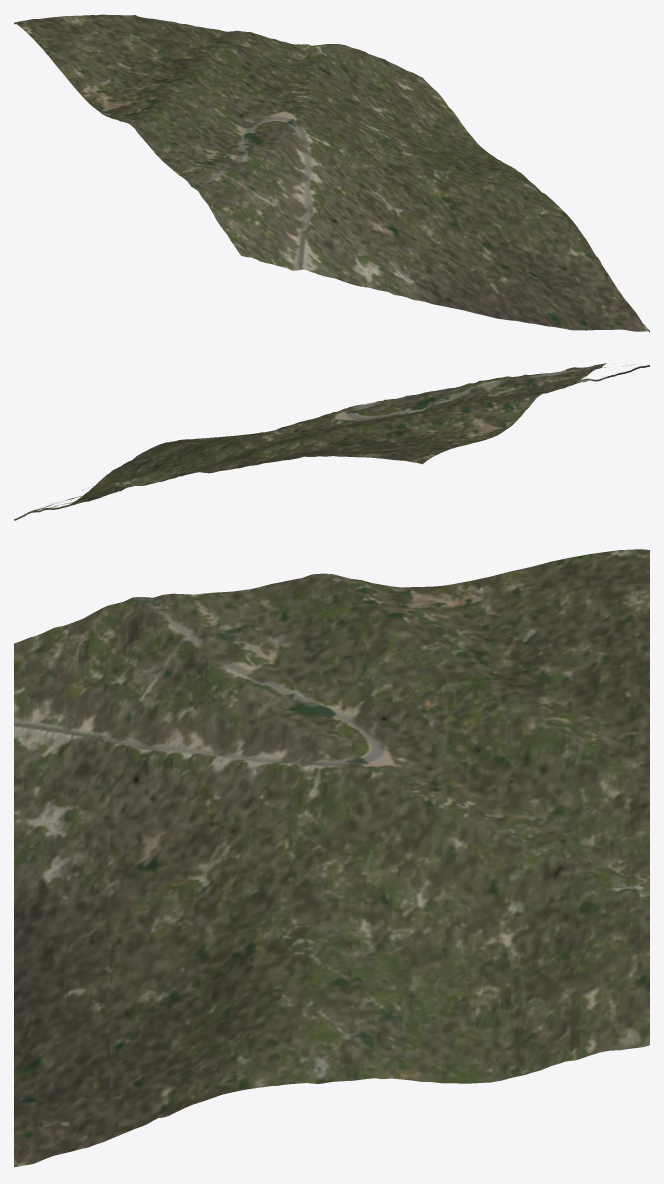
The picture shows the model from 3 angles, top to bottom: view 1: azimuth 30°, elevation 25°; view 2: azimuth 150°, elevation 25°; view 3: azimuth 270°, elevation 25°; orthographic projection. The views are drawn at different scales.
Bounding box in the file's own units: 250 × 143 × 241.
Materials: 1 (1 with a texture image).
